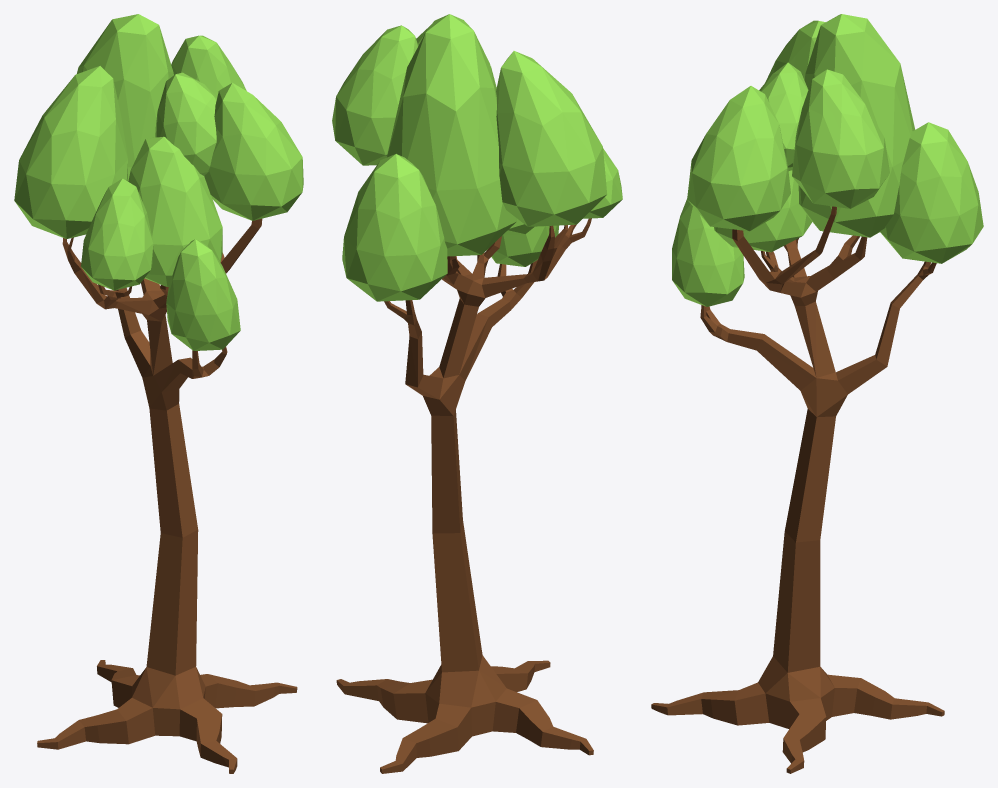
File: tree2.fbx
The picture shows the model from 3 angles, left to right: view 1: azimuth 30°, elevation 25°; view 2: azimuth 150°, elevation 25°; view 3: azimuth 270°, elevation 25°; orthographic projection. The views are drawn at different scales.
Visible parts, largest first — view 1: Tree_Birch; view 2: Tree_Birch; view 3: Tree_Birch.
Part boxes in pixels (x1,y1,x2,y2): Tree_Birch: [14, 14, 303, 773]; Tree_Birch: [332, 14, 622, 773]; Tree_Birch: [651, 14, 983, 773].
Bounding box in the file's own units: 335 × 849 × 367.
